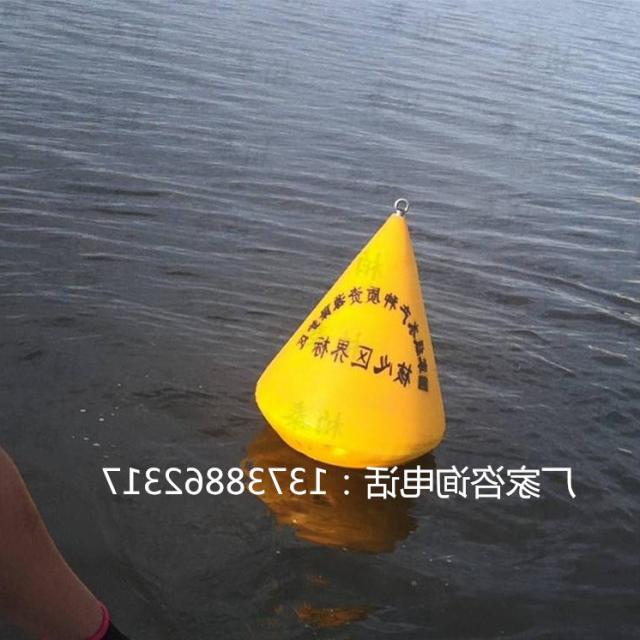buoy: (254, 198, 448, 468)
